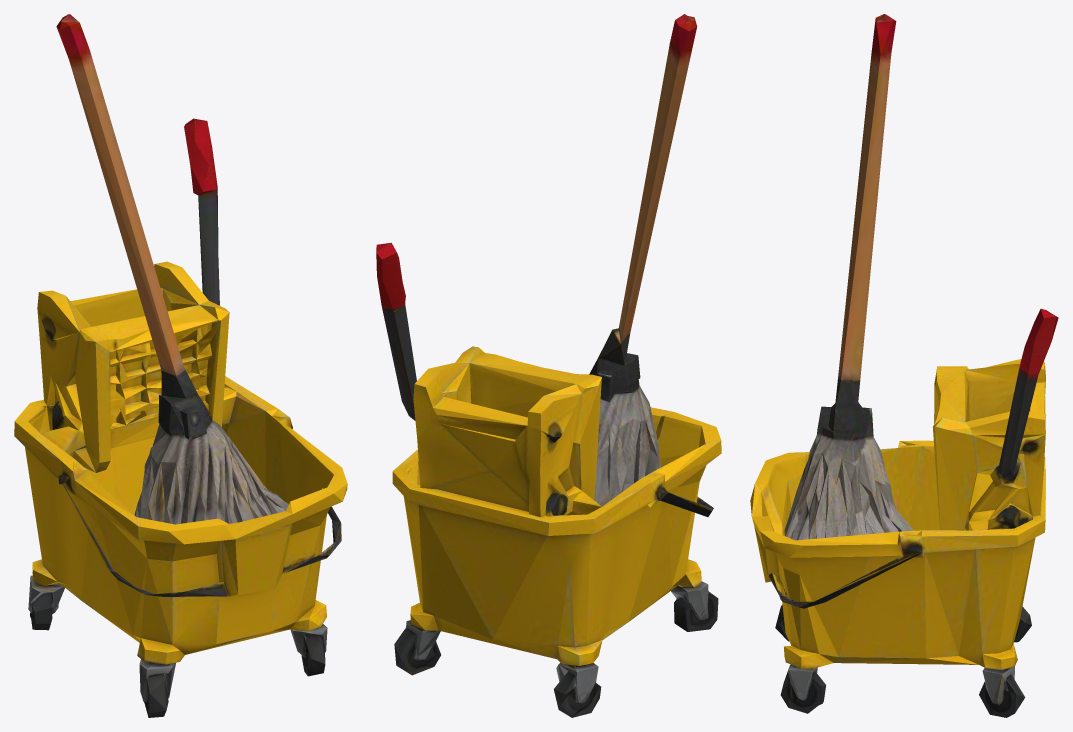
The model's file is mop_bucket.glb.
3 views of the same model, side by side, from view 1: azimuth 30°, elevation 25°; view 2: azimuth 150°, elevation 25°; view 3: azimuth 270°, elevation 25° (orthographic). The views are drawn at different scales.
Bounding box in the file's own units: 0.723 × 1.9 × 0.8721.
1 material, 1 textured.
